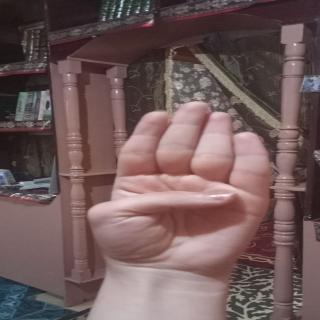KAAF: (67, 96, 283, 286)
